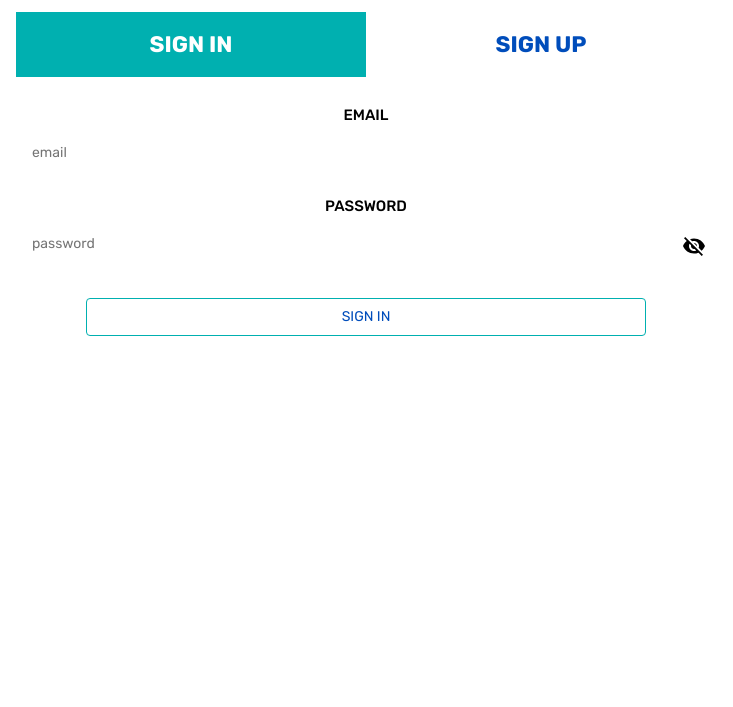
Test case: Form component › Open sign up form
Click the button with test id "open-sign-up-form".
click(541, 45)  # box [366,12,716,77]
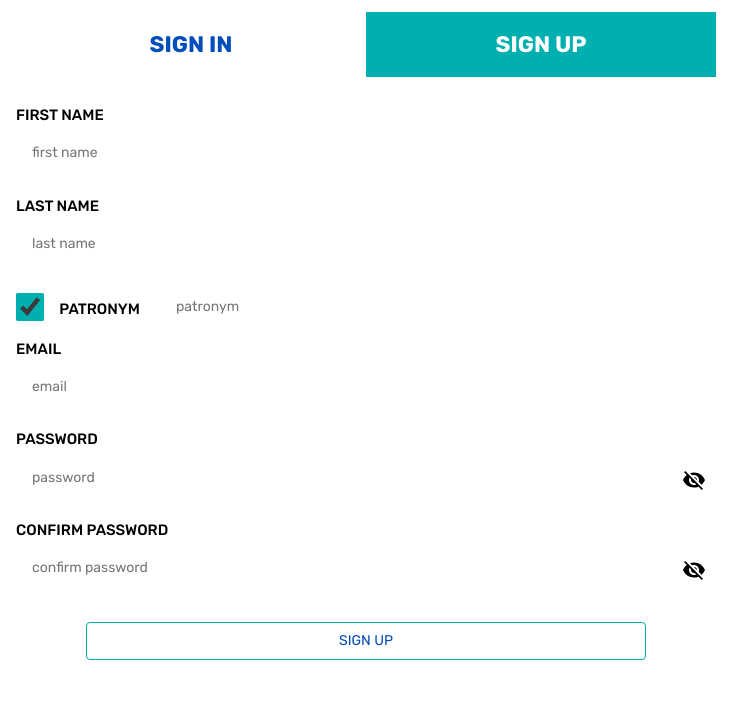
expect the form with test id "sign-up-form" is shown: met
